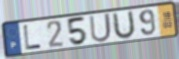2: (46, 19, 65, 49)
5: (66, 15, 89, 47)
9: (138, 8, 157, 37)
L: (22, 24, 42, 51)
U: (88, 12, 113, 44), (112, 9, 137, 41)
